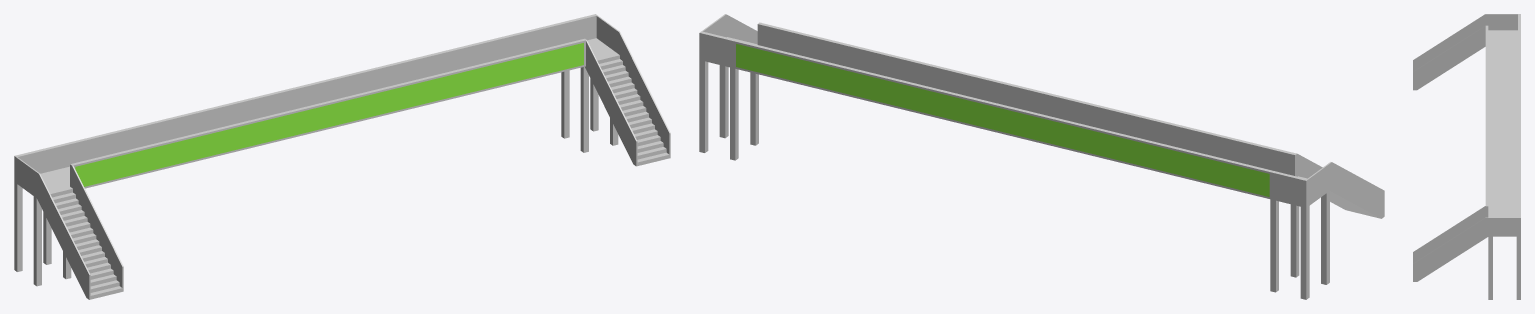
Rendered from Race_Bridge_2.fbx.
3 renders of one model, left to right at view 1: azimuth 30°, elevation 25°; view 2: azimuth 150°, elevation 25°; view 3: azimuth 270°, elevation 25°, orthographic. The views are drawn at different scales.
Visible parts, largest first — view 1: Race_Bridge_2; view 2: Race_Bridge_2; view 3: Race_Bridge_2.
Part boxes in pixels (<box>): Race_Bridge_2: <box>14,14,670,299</box>; Race_Bridge_2: <box>699,14,1384,299</box>; Race_Bridge_2: <box>1413,14,1520,299</box>.
Bounding box in the file's own units: 3274 × 614 × 732.
